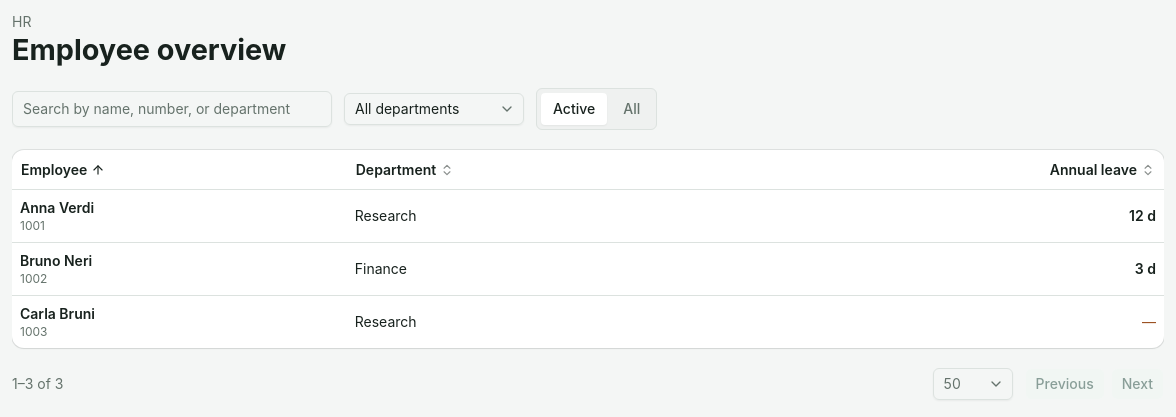
it: EmployeeBalances › filters by the search box across name, number, and department
Expected: the text "Anna Verdi" is shown, 20,200 -> 94,216
Type "finance" into the field labelled "Search by name, number, or department" at (172, 109), box 12,91 -> 332,127
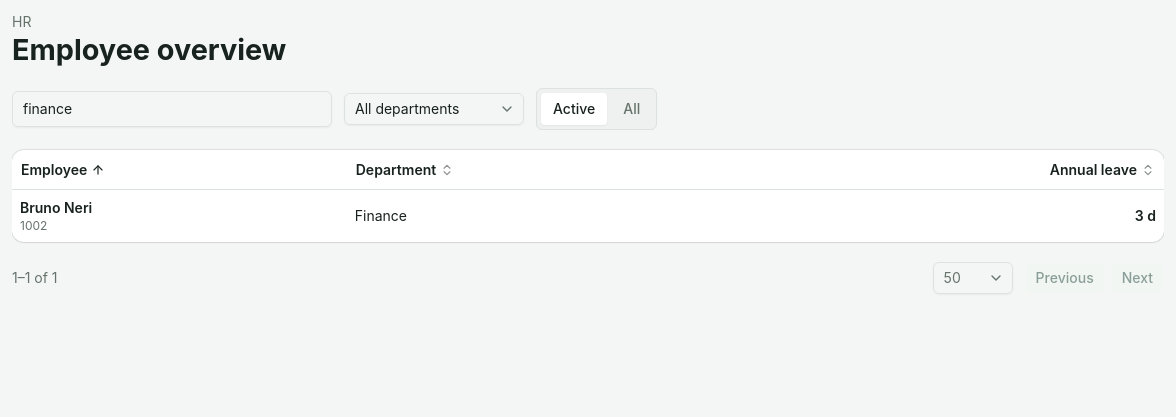
Expected: the text "1–1 of 1" is shown, 12,268 -> 58,288
